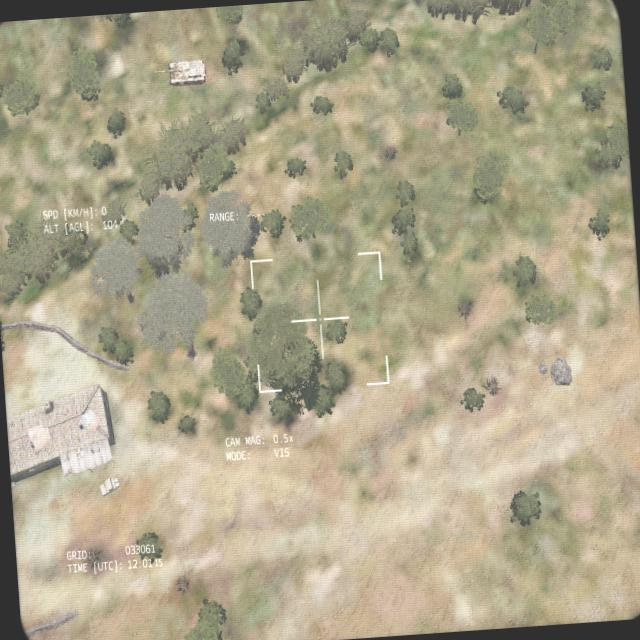tank: (151, 57, 207, 89)
